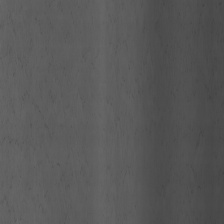silk_spot: (7, 28, 79, 152)
